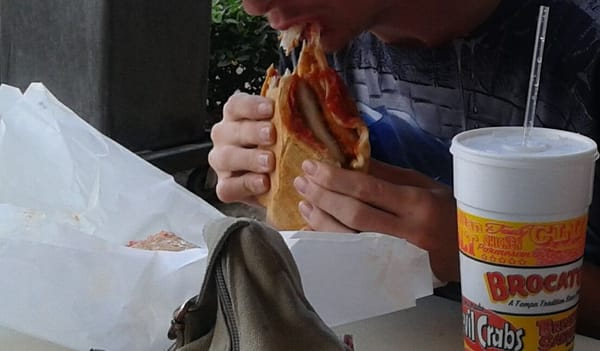soup: (263, 37, 371, 228)
